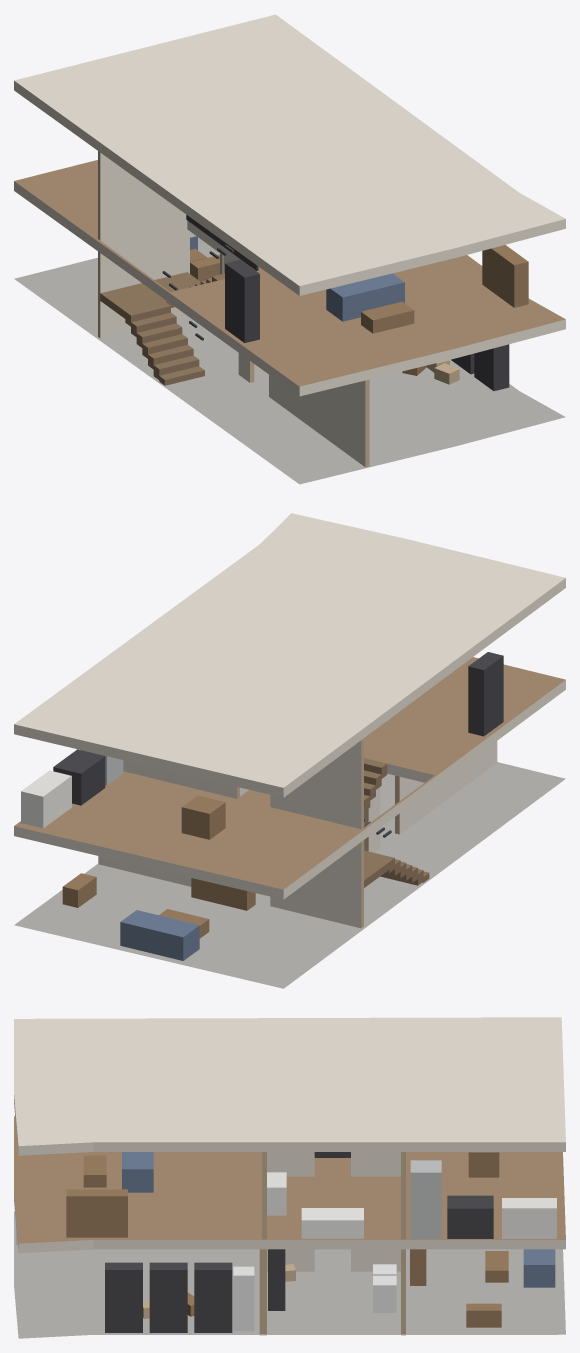
Rendered from interior.glb.
3 views of the same model, one above another, from view 1: azimuth 30°, elevation 25°; view 2: azimuth 150°, elevation 25°; view 3: azimuth 270°, elevation 25° (orthographic). The views are drawn at different scales.
Parts seen in each view (by area): view 1: slabs, partitions, coarse-s1, stair, coarse-s0; view 2: slabs, partitions, coarse-s1, coarse-s0, stair; view 3: slabs, coarse-s0, coarse-s1, partitions.
Boxes of the visible parts, x1,y1,x2,y2 form: slabs: (14,14,565,484); partitions: (98,151,369,467); coarse-s1: (225,245,528,342); stair: (100,215,258,385); coarse-s0: (190,236,509,390); slabs: (14,513,565,988); partitions: (98,738,497,928); coarse-s1: (21,652,503,839); coarse-s0: (62,873,255,960); stair: (364,758,429,887); slabs: (14,1017,565,1338); coarse-s0: (105,1249,555,1332); coarse-s1: (66,1152,556,1238); partitions: (16,1152,405,1335).
Bounding box in the file's own units: 7.51 × 5.25 × 13.59.
